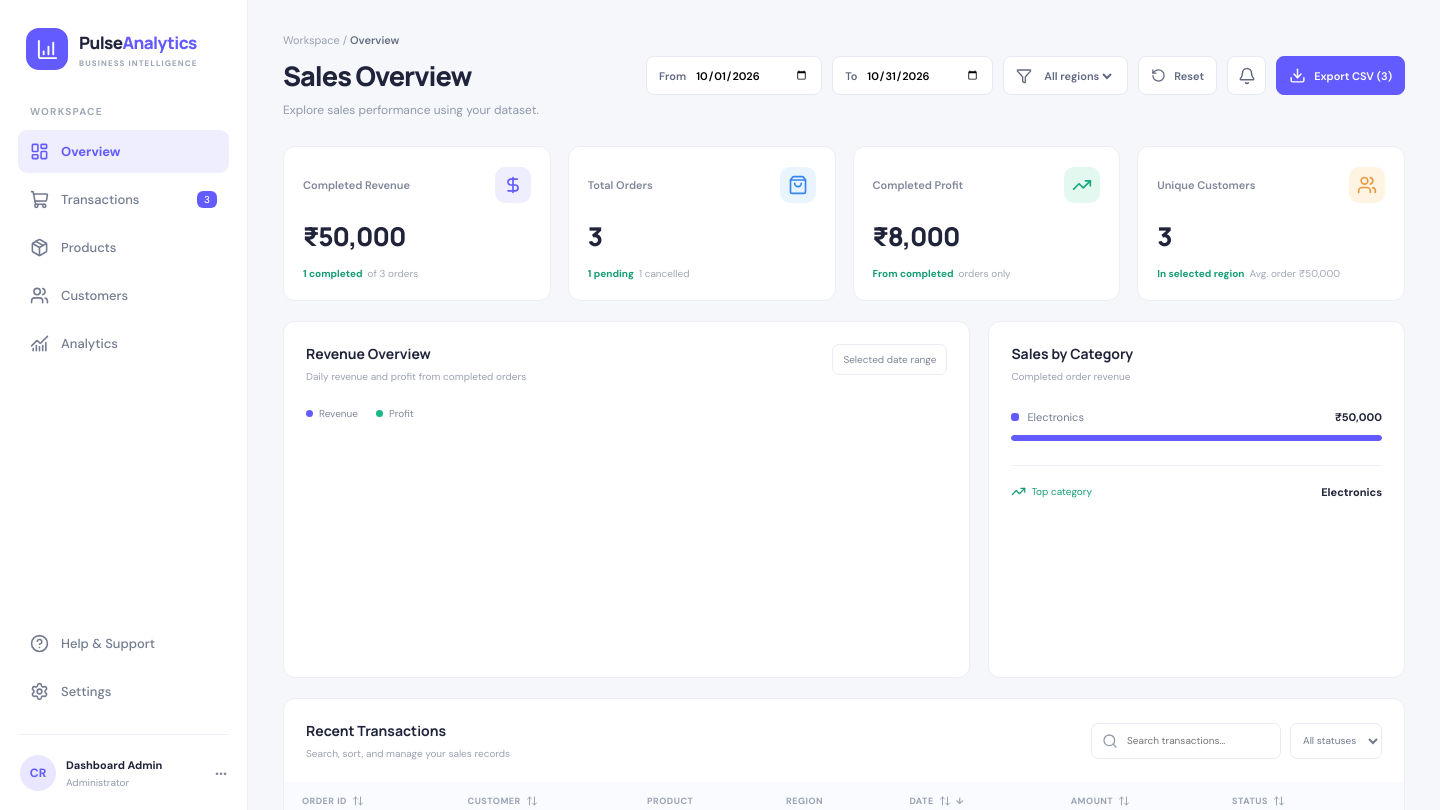
Test: App integration › displays the Help and Settings information
expect the heading "Sales Overview" is shown: met, box [283, 57, 471, 94]
Step 1. Click the button "Help & Support" → (124, 644), box [18, 622, 229, 665]
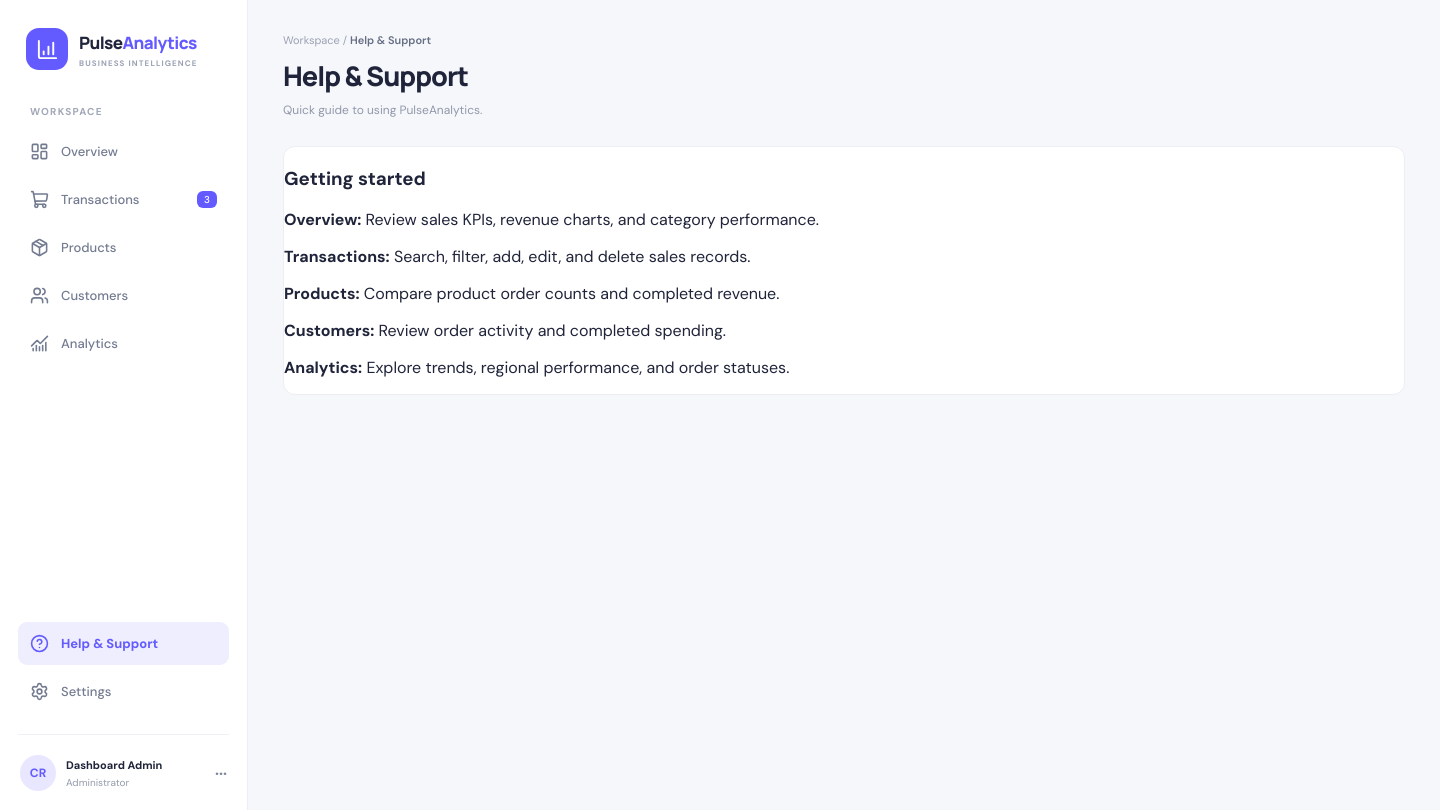
expect the text "Quick guide to using PulseAnalytics." is shown: met, box [283, 102, 482, 118]
Step 2. Click the button "Settings" → (124, 692), box [18, 670, 229, 713]
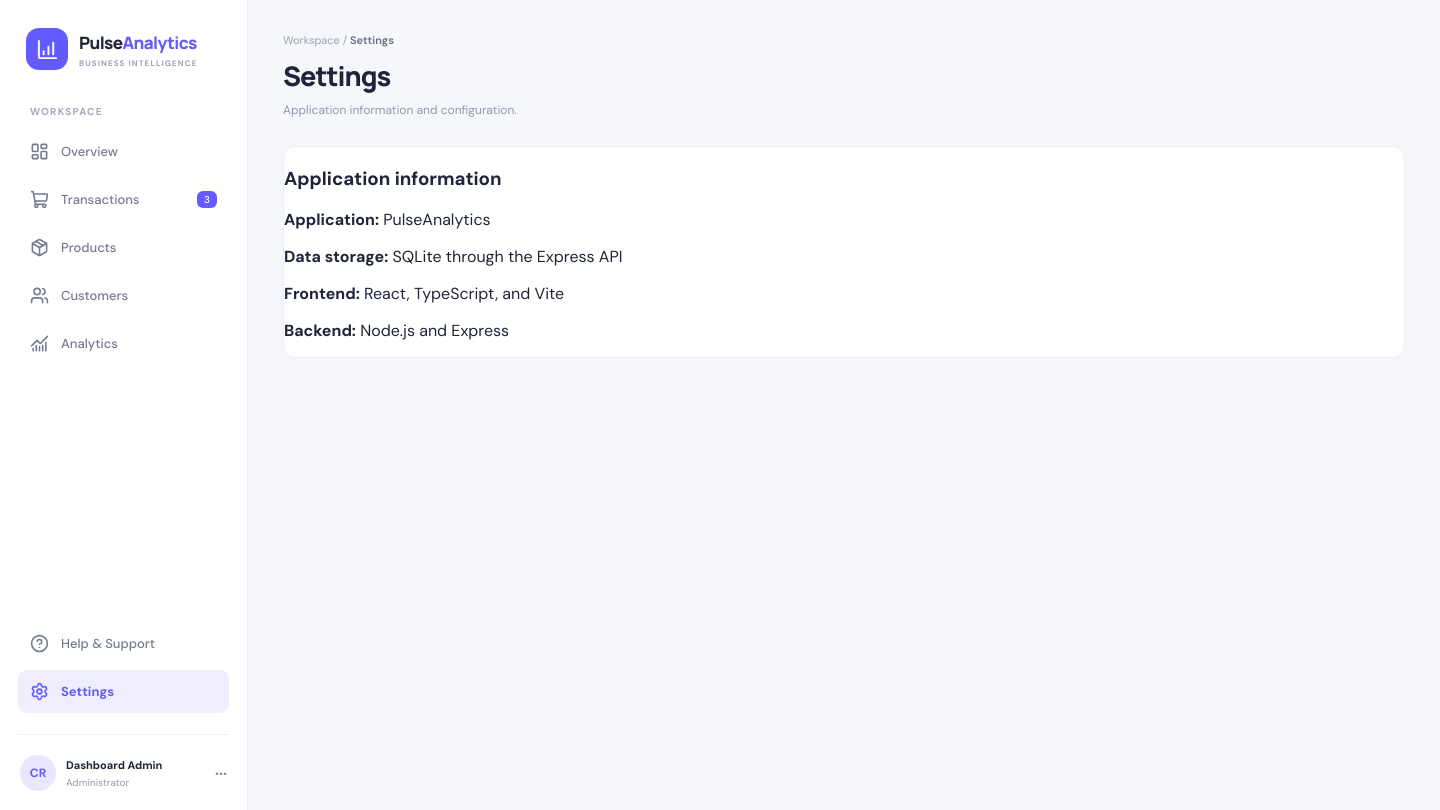
expect the text "Data storage: SQLite through the Express API" is shown: met, box [284, 246, 622, 267]
